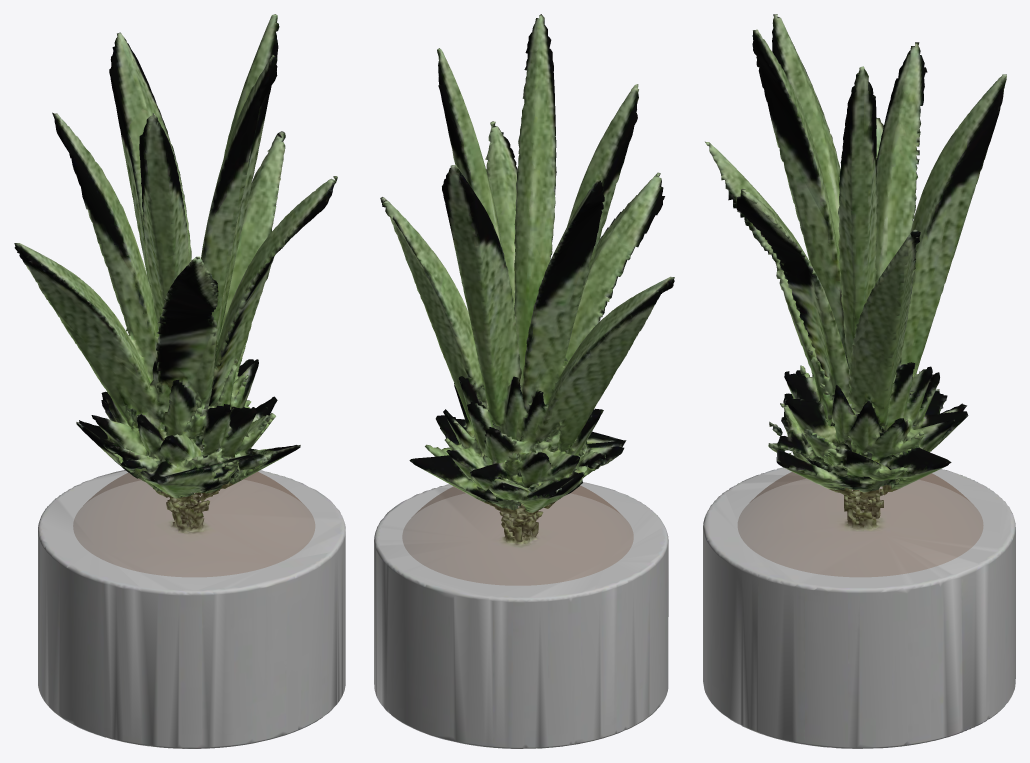
Rendered from plant-transformed.glb.
3 views of the same model, side by side, from view 1: azimuth 30°, elevation 25°; view 2: azimuth 150°, elevation 25°; view 3: azimuth 270°, elevation 25° (orthographic). The views are drawn at different scales.
Visible parts, largest first — view 1: plant, Area (2); view 2: plant, Area (2); view 3: plant, Area (2).
Part boxes in pixels (x1,y1,x2,y2): plant: (14,14,345,748); Area (2): (73,472,314,576); plant: (374,14,674,748); Area (2): (402,485,633,585); plant: (703,14,1015,748); Area (2): (738,472,982,576).
Bounding box in the file's own units: 59.98 × 125 × 53.04.
Materials: 2 (2 with a texture image).
